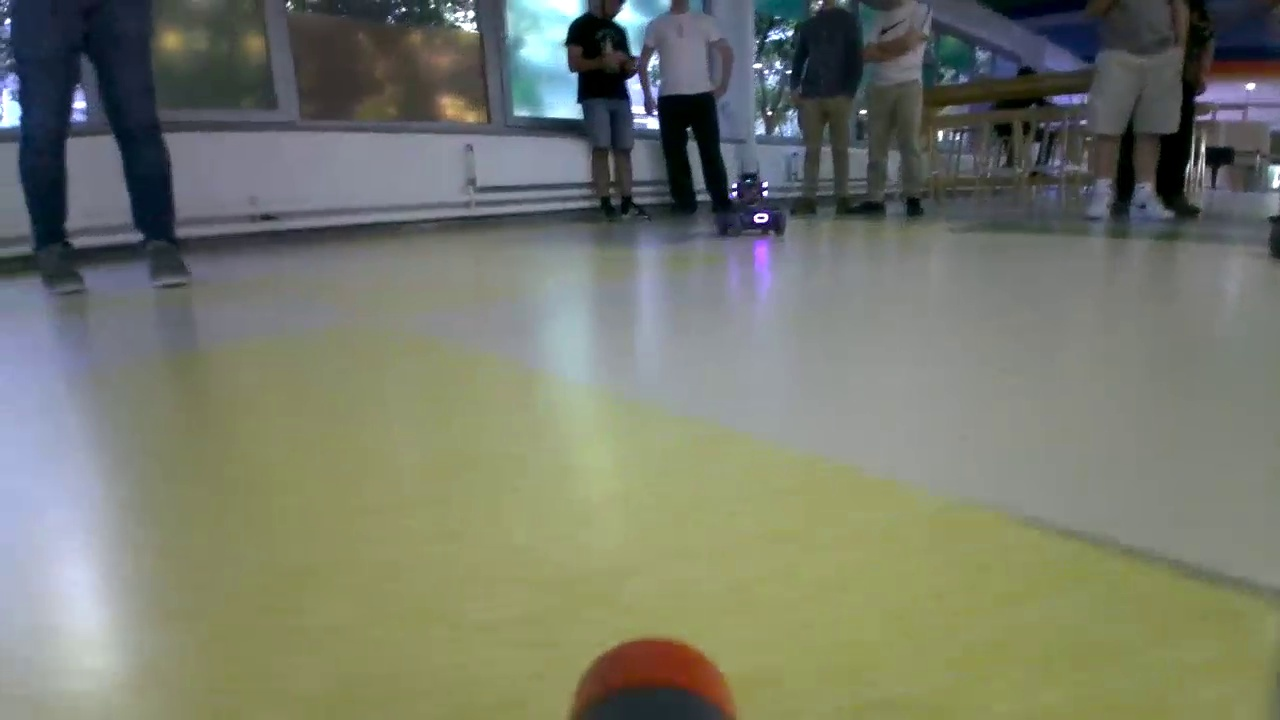robot: (714, 174, 786, 239)
